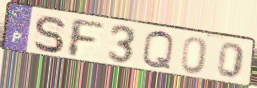0: (179, 36, 210, 76), (217, 41, 247, 81)
3: (106, 24, 138, 66)
F: (68, 16, 107, 59)
Q: (140, 30, 176, 73)
S: (32, 15, 67, 55)
